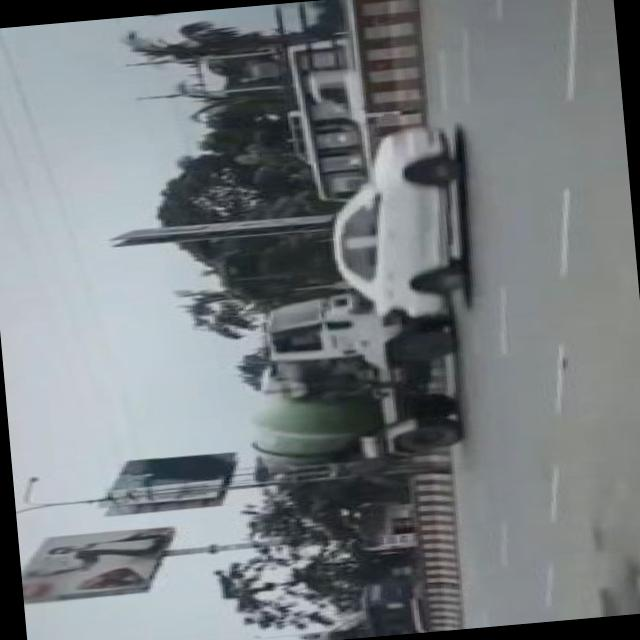car: (316, 122, 464, 321)
truck: (248, 312, 466, 467)
